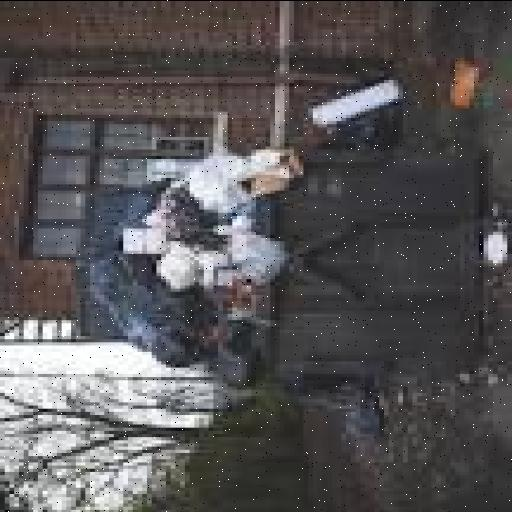poubelle_pleine: (76, 130, 502, 400)
